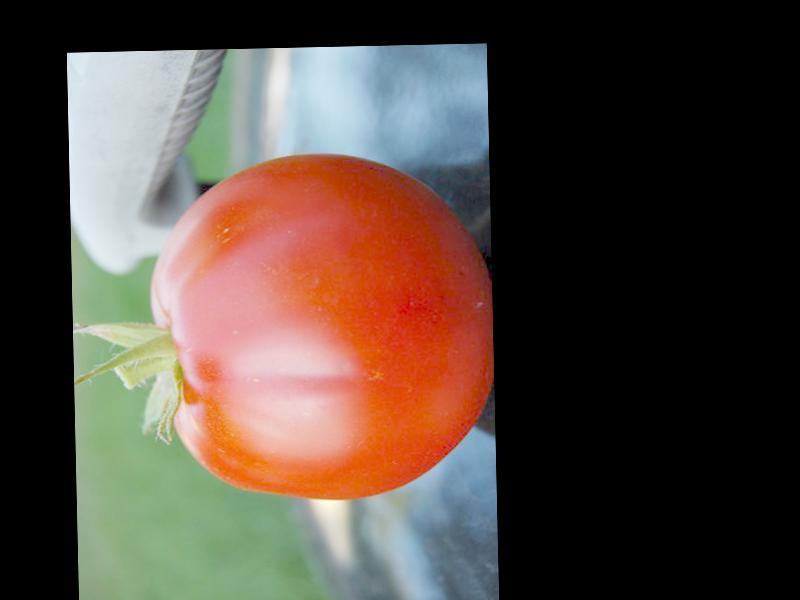Tomato: (147, 149, 497, 504)
